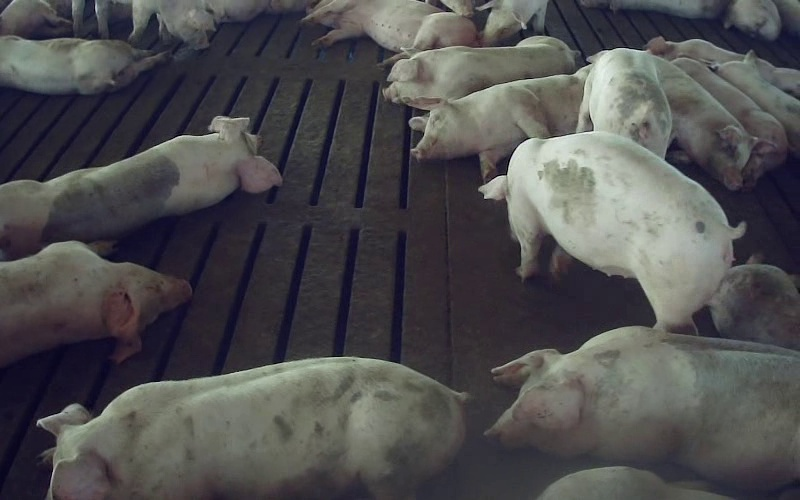pig: (38, 357, 464, 497), (480, 132, 744, 332), (485, 326, 799, 489), (0, 116, 281, 259), (0, 241, 190, 366), (409, 66, 589, 181), (673, 58, 787, 190), (383, 36, 577, 109), (654, 57, 756, 189), (576, 48, 671, 158), (302, 0, 477, 58), (0, 36, 168, 94), (716, 50, 799, 157)
